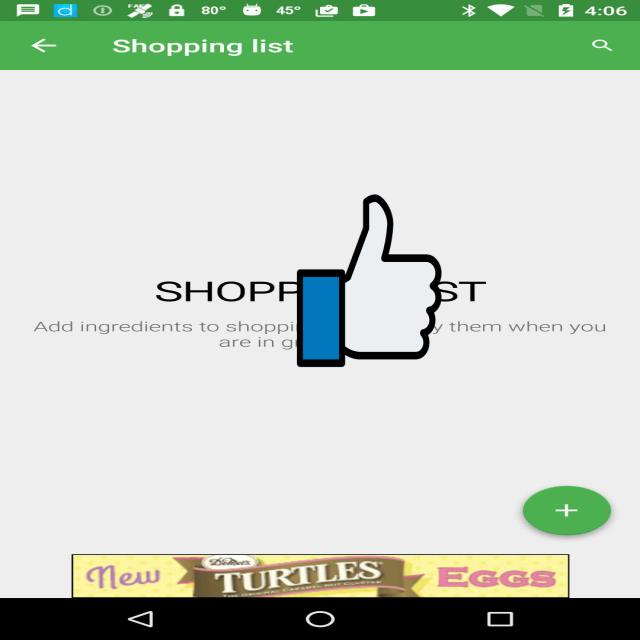privacy zuckering: (297, 190, 441, 370)
